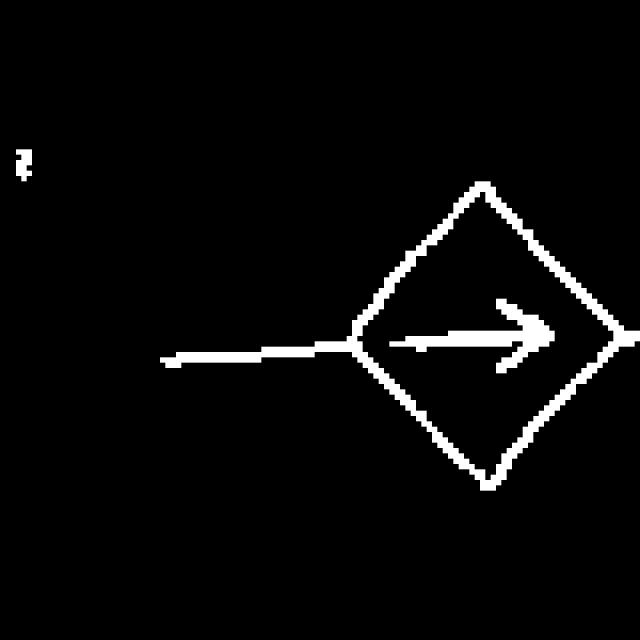dependant_current: (338, 165, 636, 496)
